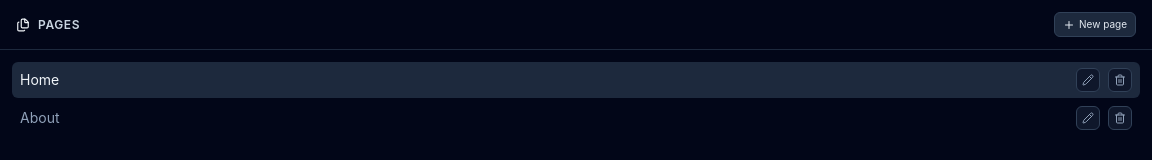
Test case: PagesPanel › deleting one of two pages removes the row
Click the button named "Delete page" in the row of "About" at (1120, 118), box [1108,106,1132,130]
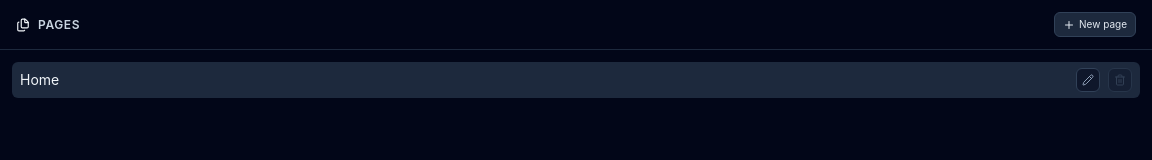
Expected: the text "Home" is shown, [20,71,59,88]
Expected: the text "About" is gone
